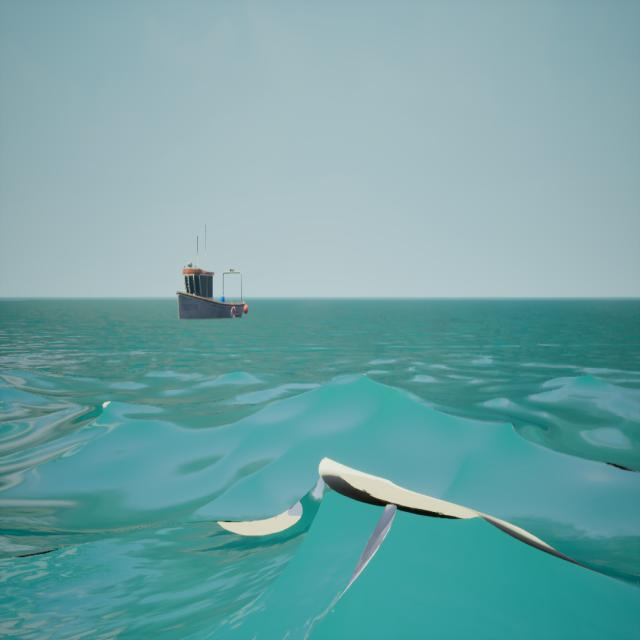ship: (172, 215, 252, 332)
